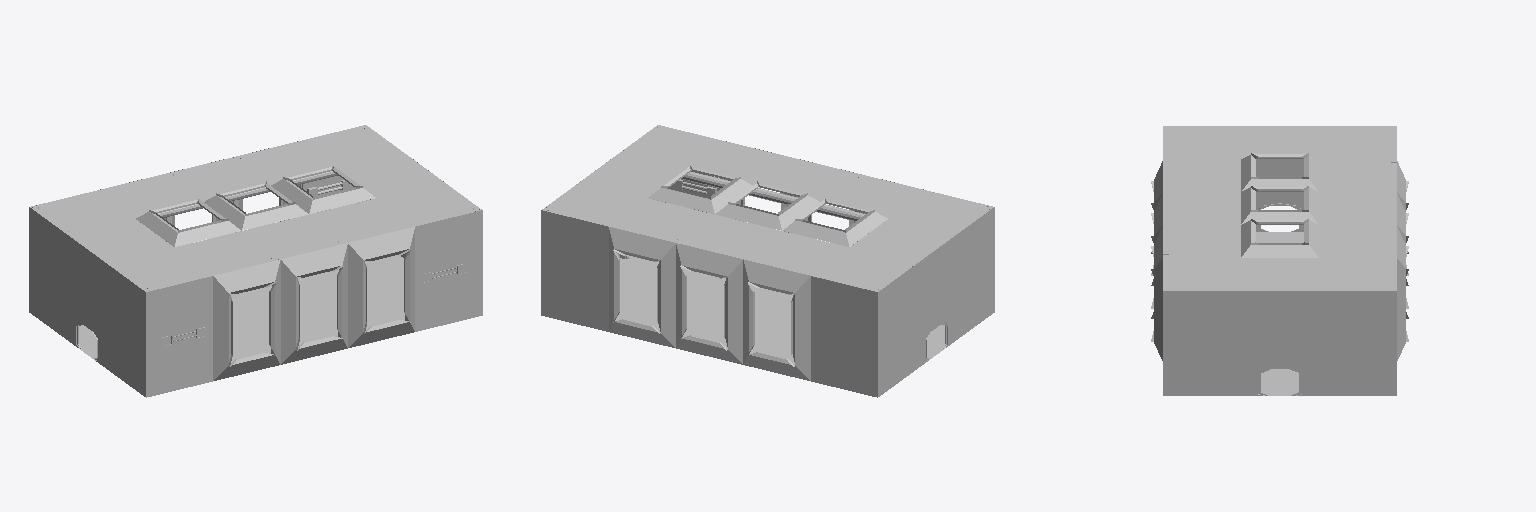
Rendered from Airlock_low.obj.
3 views of the same model, side by side, from view 1: azimuth 30°, elevation 25°; view 2: azimuth 150°, elevation 25°; view 3: azimuth 270°, elevation 25° (orthographic).
Visible parts, largest first — view 1: Airlock_low_Cube.13282; view 2: Airlock_low_Cube.13282; view 3: Airlock_low_Cube.13282.
Boxes of the visible parts, box(x1,y1,x2,y2) form: Airlock_low_Cube.13282: box(29, 125, 482, 397); Airlock_low_Cube.13282: box(541, 125, 994, 397); Airlock_low_Cube.13282: box(1151, 126, 1408, 395).
Size of the model in its own units: 40 by 13.2 by 26.6.